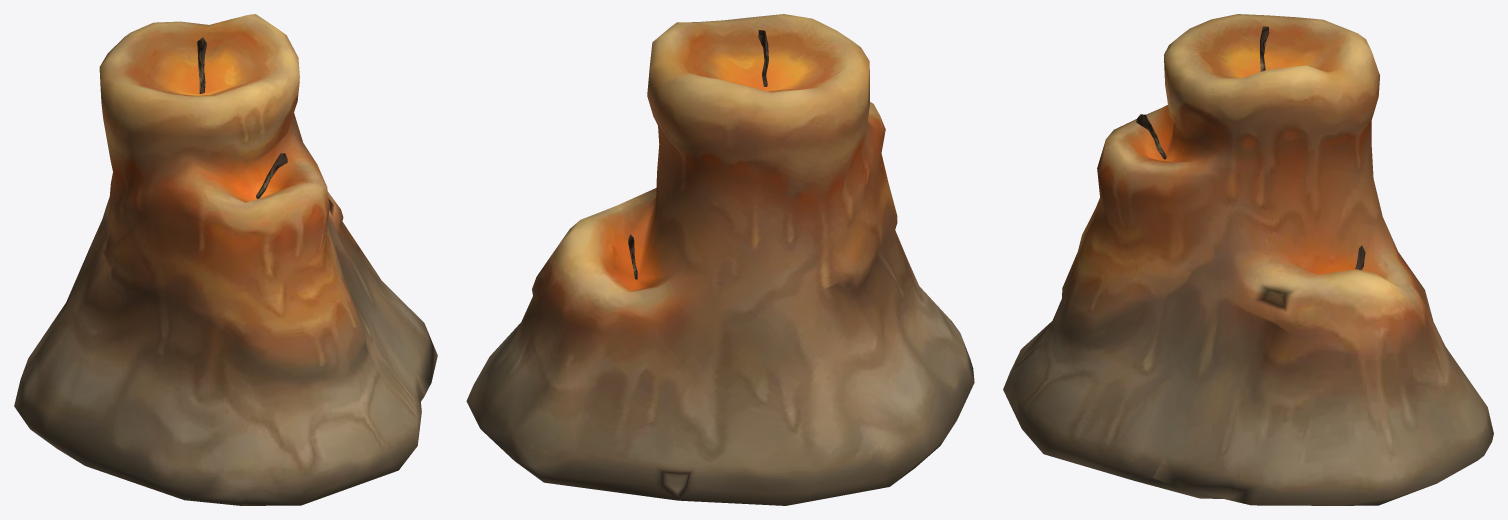
3 renders of one model, left to right at view 1: azimuth 30°, elevation 25°; view 2: azimuth 150°, elevation 25°; view 3: azimuth 270°, elevation 25°, orthographic. The views are drawn at different scales.
Size of the model in its own units: 7.67 by 7.55 by 8.29.
Materials: 1 (1 with a texture image).
